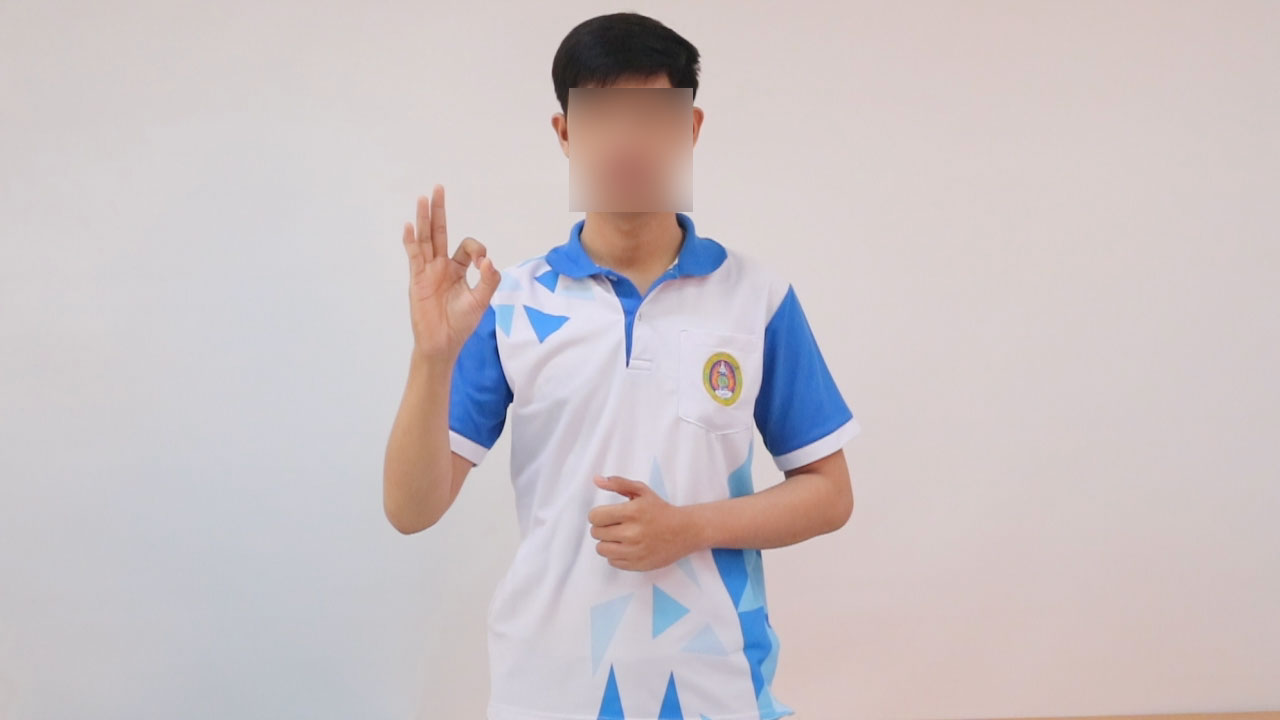for: (393, 176, 509, 370)
